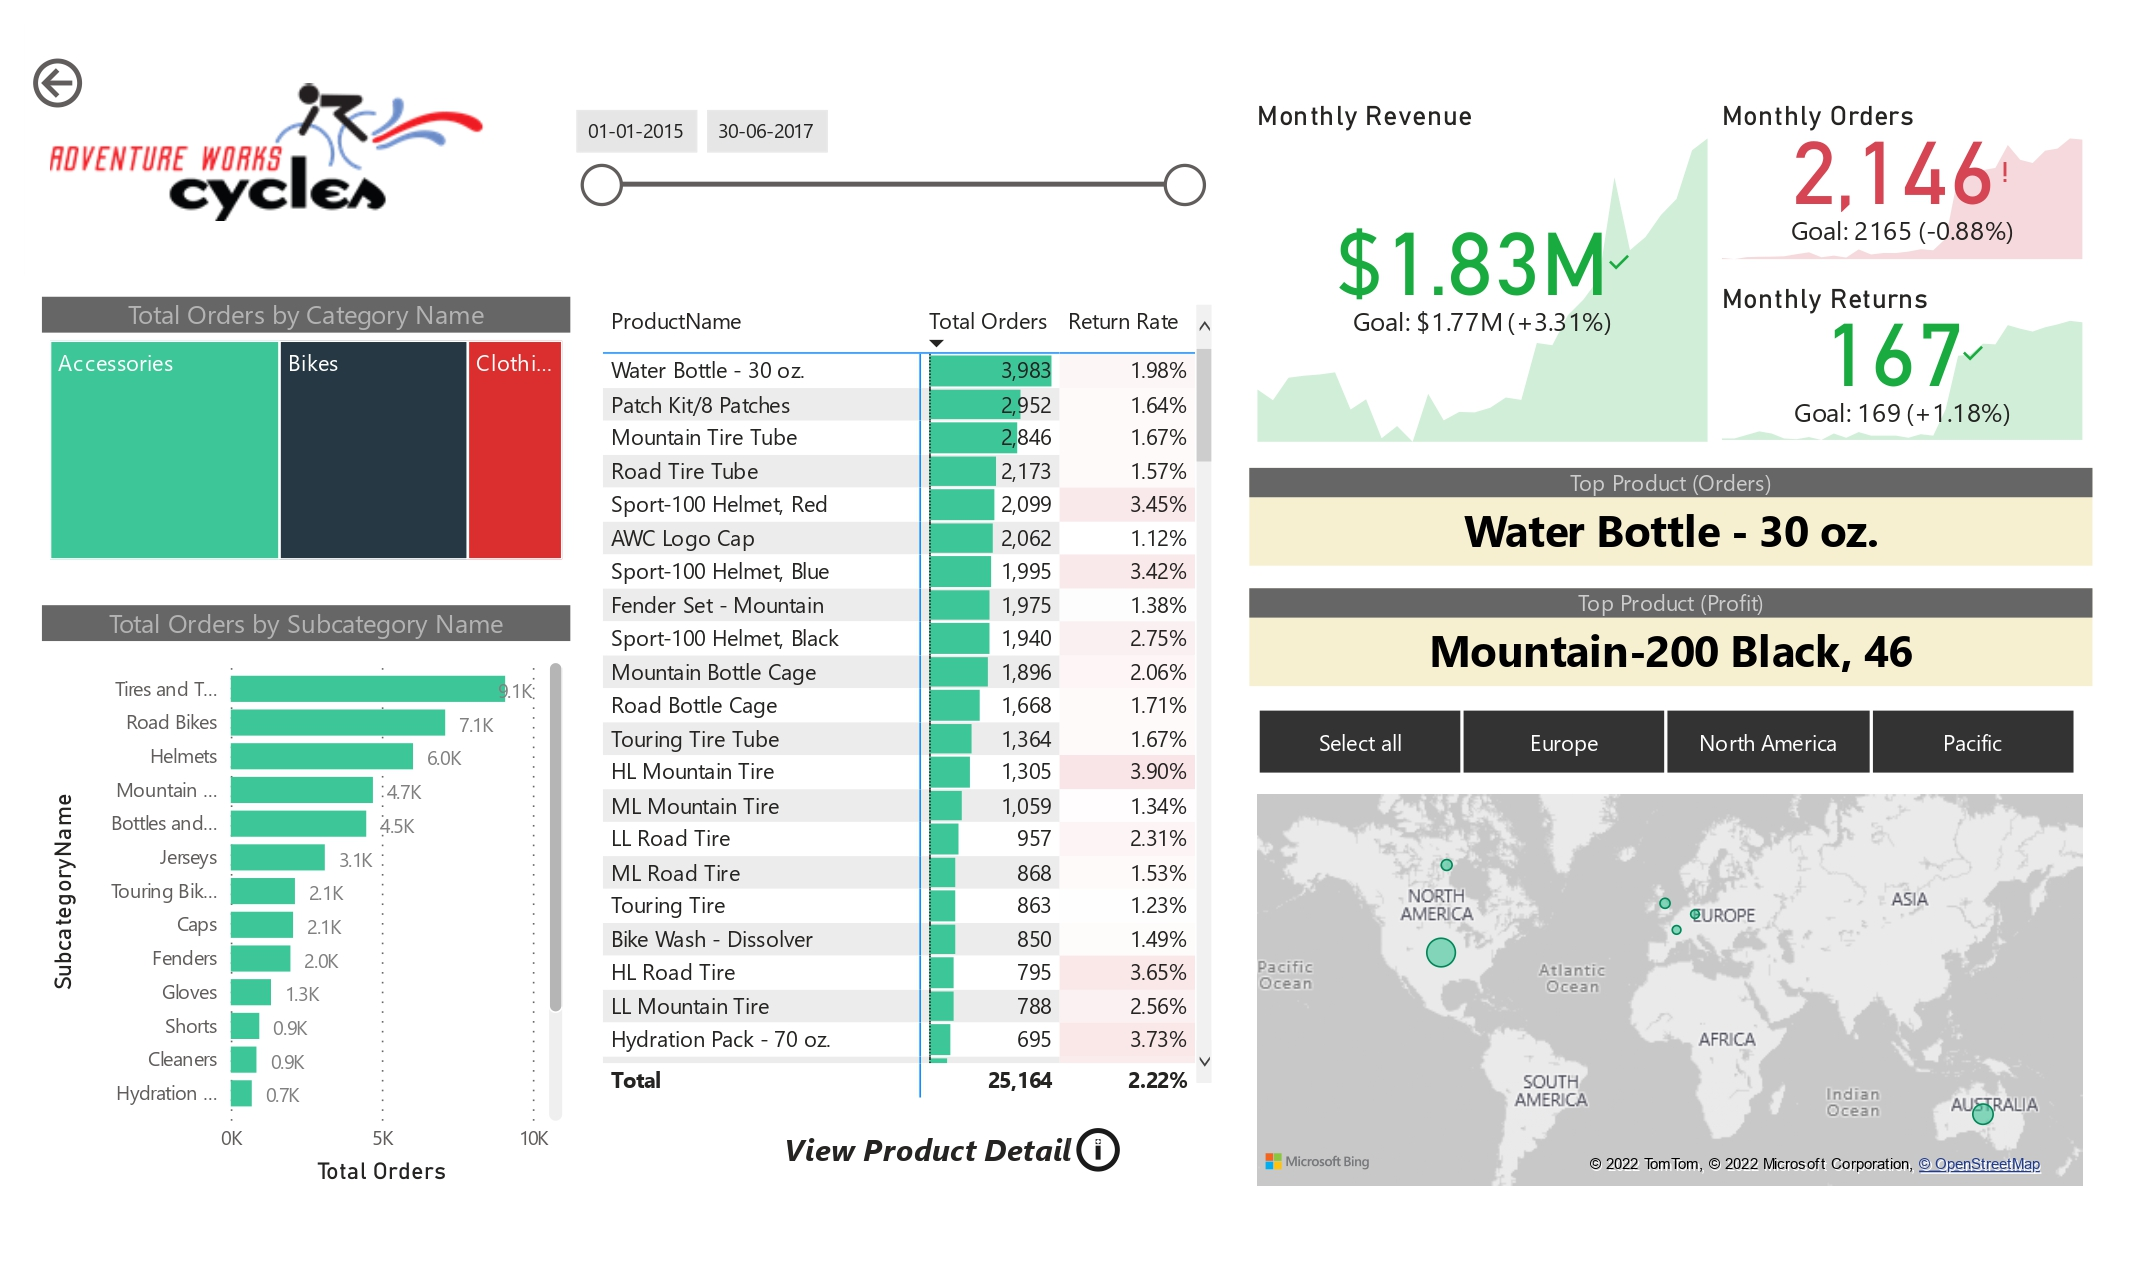

This screenshot's page, from the dashboard's own definition file:
{"tool":"powerbi","page":{"name":"Exec Summary","canvas":[1280,720],"ordinal":0},"visuals":[{"type":"map","fields":{"Category":["AW_Territories_Lookup.Country"],"Size":["AW_Sales.Total Orders"]},"box":[737.2,499.1,523.3,201.3],"z":0},{"type":"slicer","fields":{"Values":["AW_Territories_Lookup.Continent"]},"box":[714.2,443.9,564.7,54.1],"z":1000},{"type":"textbox","box":[492.1,670.1,259.7,37.7],"z":2000},{"type":"image","box":[31.1,5.5,240.2,80.1],"z":3000},{"type":"barChart","title":"Total Orders by Subcategory","fields":{"Y":["AW_Sales.Total Orders"],"Category":["AW_Product_Subcategory_Lookup.SubcategoryName"]},"box":[28.6,328.3,350,380.9],"z":4000},{"type":"treemap","title":"Total Orders by Category","fields":{"Group":["AW_Product_Category_Lookup.CategoryName","AW_Product_Subcategory_Lookup.SubcategoryName"],"Values":["AW_Sales.Total Orders"]},"box":[29.3,110.7,348.9,185.3],"z":5000},{"type":"pivotTable","fields":{"Values":["AW_Sales.Total Orders","AW_Returns.Return Rate"],"Rows":["AW_Product_Category_Lookup.CategoryName","AW_Product_Subcategory_Lookup.SubcategoryName","AW_Product_Lookup.ProductName"]},"box":[395.8,106.4,319.1,555.7],"z":6000},{"type":"slicer","fields":{"Values":["AW_Calendar_Lookup.Date"]},"box":[265.4,7.3,454.1,85.8],"z":7000},{"type":"kpi","title":"Monthly Revenue","fields":{"Indicator":["AW_Sales.Total Revenue"],"TrendLine":["AW_Calendar_Lookup.Start of Month"],"Goal":["AW_Sales.Prev Month Revenue"]},"box":[736.7,24,298.6,229.7],"z":8000},{"type":"kpi","title":"Monthly Orders","fields":{"TrendLine":["AW_Calendar_Lookup.Start of Month"],"Indicator":["AW_Sales.Total Orders"],"Goal":["AW_Sales.Prev Month Orders"]},"box":[1038.6,24,226.5,95.6],"z":9000},{"type":"kpi","title":"Monthly Returns","fields":{"TrendLine":["AW_Calendar_Lookup.Start of Month"],"Indicator":["AW_Returns.Total Returns"],"Goal":["AW_Returns.Prev Month Returns"]},"box":[1035.2,139.6,229.9,112.8],"z":10000},{"type":"card","title":"Top Product (Orders)","fields":{"Values":["Min(AW_Product_Lookup.ProductName)"]},"box":[736.7,273.4,522.8,67.5],"z":11000},{"type":"card","title":"Top Product (Profit)","fields":{"Values":["Min(AW_Product_Lookup.ProductName)"]},"box":[736.7,360.8,522.8,67.5],"z":12000},{"type":"actionButton","box":[661.2,666.9,59.3,38.9],"z":13000}]}

Visuals, with their boxes on the page's 1280x720 design canvas (x1, y1, x2, y2). These are canvas units, not pixel positions in the 2150x1275 screenshot, which may show the page scaled, cropped or inside an application window:
map - AW_Territories_Lookup.Country x AW_Sales.Total Orders: 737/499/1260/700
slicer - AW_Territories_Lookup.Continent: 714/444/1279/498
textbox: 492/670/752/708
image: 31/6/271/86
"Total Orders by Subcategory" barChart: 29/328/379/709
"Total Orders by Category" treemap: 29/111/378/296
pivotTable - AW_Sales.Total Orders x AW_Returns.Return Rate: 396/106/715/662
slicer - AW_Calendar_Lookup.Date: 265/7/720/93
"Monthly Revenue" kpi: 737/24/1035/254
"Monthly Orders" kpi: 1039/24/1265/120
"Monthly Returns" kpi: 1035/140/1265/252
"Top Product (Orders)" card: 737/273/1260/341
"Top Product (Profit)" card: 737/361/1260/428
actionButton: 661/667/720/706
